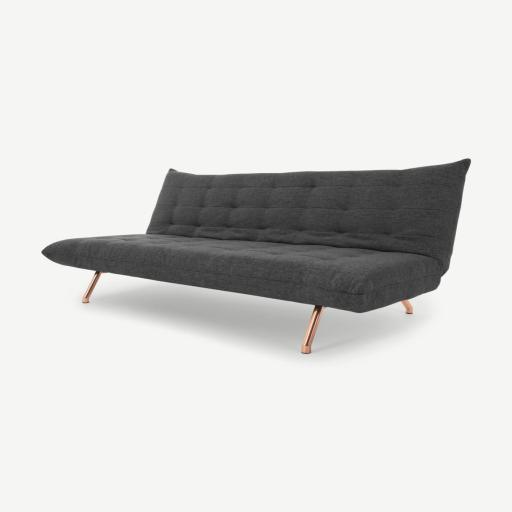back_cushion: (147, 161, 469, 274)
legs: (302, 306, 324, 353), (82, 272, 105, 303), (402, 300, 413, 314)
one-seater: (42, 159, 470, 353)
seat_cushion: (43, 234, 440, 312)
